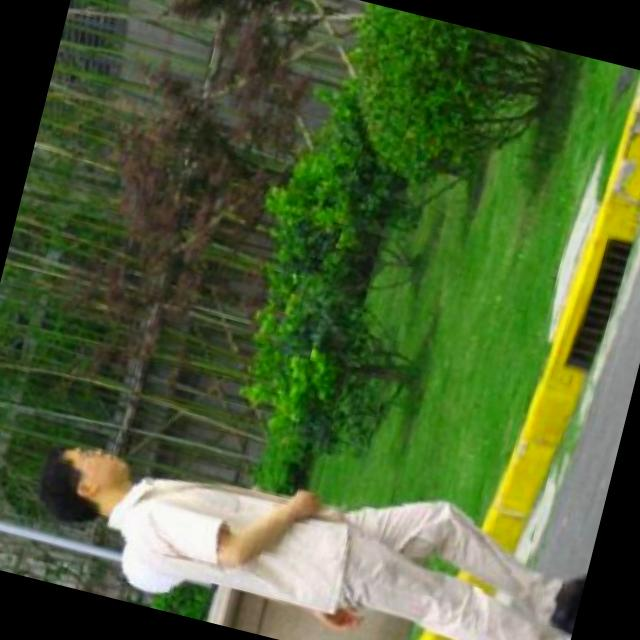Person: (12, 379, 601, 640)
